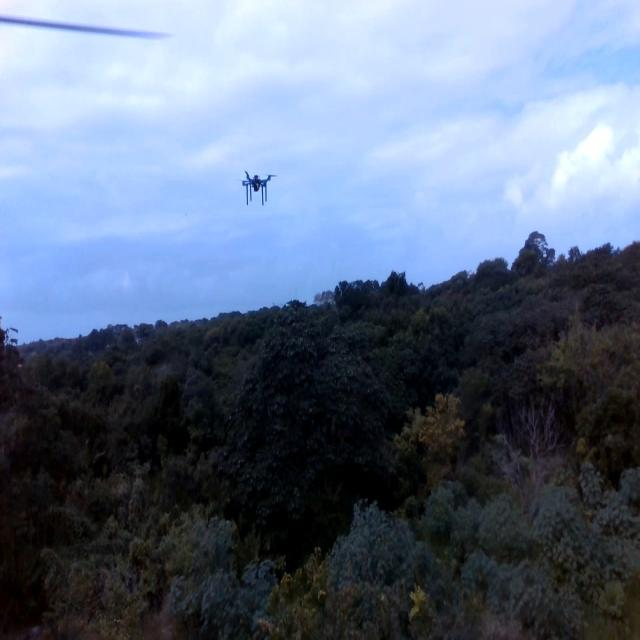-uav-: (236, 162, 282, 210)
